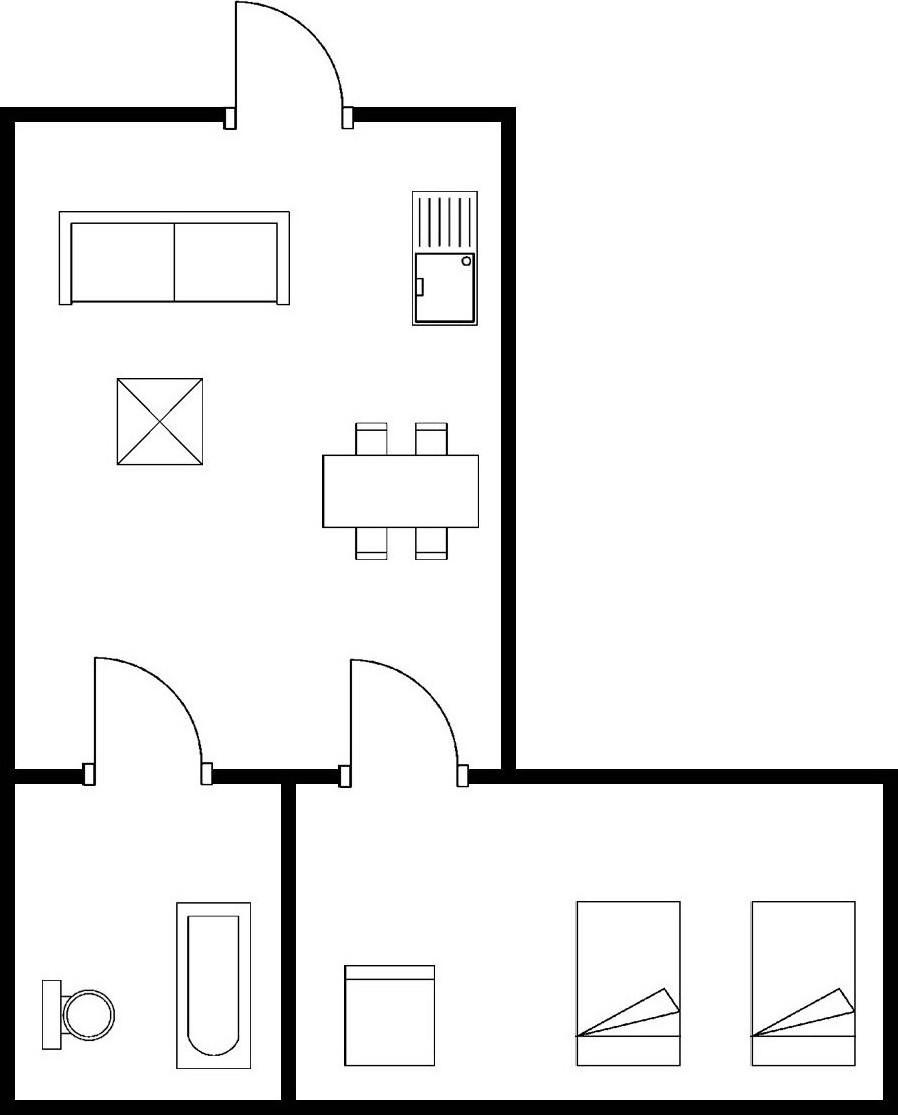bed: (745, 892, 863, 1075), (568, 894, 685, 1072)
dining_table: (318, 417, 484, 567)
sink: (405, 182, 485, 332)
sofa: (53, 203, 296, 309)
toilet: (34, 973, 120, 1060)
tub: (167, 893, 259, 1078)
